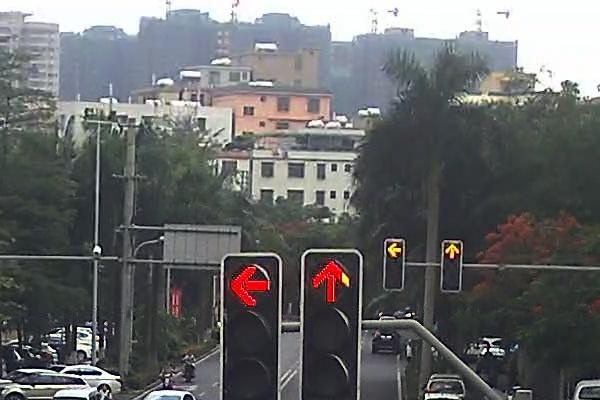redleft: (221, 255, 279, 307), (384, 239, 404, 259)
redstraight: (301, 251, 359, 305), (442, 240, 462, 260)
